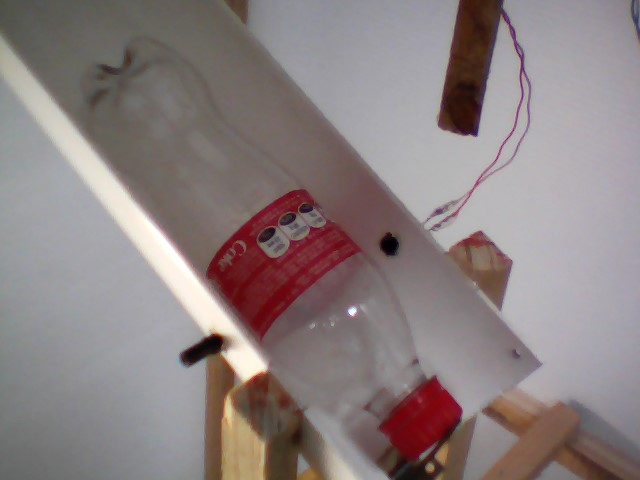plastico: (71, 34, 467, 464)
